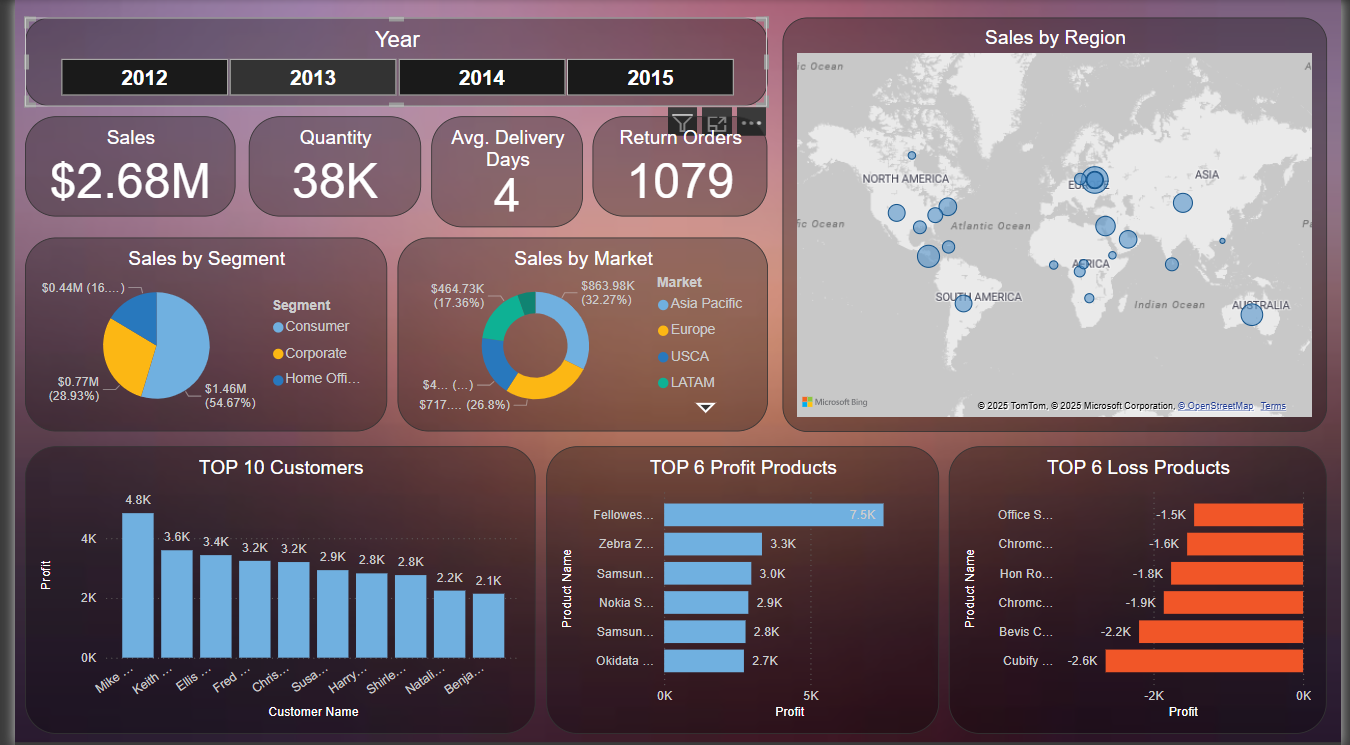

What the dashboard file says about the page in this screenshot:
{"tool":"powerbi","page":{"name":"P","canvas":[1280,720],"ordinal":0},"visuals":[{"type":"card","title":"Sales","fields":{"Values":["Orders.Sales"]},"box":[9.9,112.7,202.8,97.2],"z":0},{"type":"card","title":"Quantity","fields":{"Values":["Orders.Quantity"]},"box":[225.4,112.7,166.2,97.2],"z":1000},{"type":"card","title":"Avg. Delivery Days","fields":{"Values":["Orders.Delivery Days"]},"box":[401.4,112.7,146.5,107],"z":2000},{"type":"slicer","title":"Year","fields":{"Values":["Orders.Year"]},"box":[9.9,16.9,716.9,85.9],"z":3000},{"type":"card","title":"Return Orders","fields":{"Values":["Returns.Return Orders"]},"box":[557.7,112.7,169,97.2],"z":4000},{"type":"map","fields":{"Category":["Orders.Region"],"Size":["Orders.Sales"]},"box":[740.8,16.9,525.4,400],"z":5000},{"type":"barChart","title":"TOP 6 Profit  Products","fields":{"Category":["Orders.Product Name"],"Y":["Orders.Profit"]},"box":[512.7,430.7,378.8,277.5],"z":6000},{"type":"barChart","title":"TOP 6 Loss  Products","fields":{"Category":["Orders.Product Name"],"Y":["Orders.Profit"]},"box":[901.4,431,364.8,277.5],"z":7000},{"type":"pieChart","fields":{"Category":["Orders.Segment"],"Y":["Orders.Sales"]},"box":[9.9,229.6,349.3,187.3],"z":8000},{"type":"donutChart","fields":{"Y":["Orders.Sales"],"Category":["Orders.Market"]},"box":[369,229.6,357.7,187.3],"z":9000},{"type":"columnChart","title":"TOP 10 Customers","fields":{"Y":["Orders.Profit"],"Category":["Orders.Customer Name"]},"box":[9.9,431,493,277.5],"z":10000}]}

Visuals, with their boxes in screenshot pixels (x1, y1, x2, y2), scaled from the page's 1280x720 canvas onto the 1350x745 screenshot:
"Sales" card: left=10, top=117, right=224, bottom=217
"Quantity" card: left=238, top=117, right=413, bottom=217
"Avg. Delivery Days" card: left=423, top=117, right=578, bottom=227
"Year" slicer: left=10, top=17, right=767, bottom=106
"Return Orders" card: left=588, top=117, right=766, bottom=217
map - Orders.Region x Orders.Sales: left=781, top=17, right=1335, bottom=431
"TOP 6 Profit  Products" barChart: left=541, top=446, right=940, bottom=733
"TOP 6 Loss  Products" barChart: left=951, top=446, right=1335, bottom=733
pieChart - Orders.Segment x Orders.Sales: left=10, top=238, right=379, bottom=431
donutChart - Orders.Sales x Orders.Market: left=389, top=238, right=766, bottom=431
"TOP 10 Customers" columnChart: left=10, top=446, right=530, bottom=733
